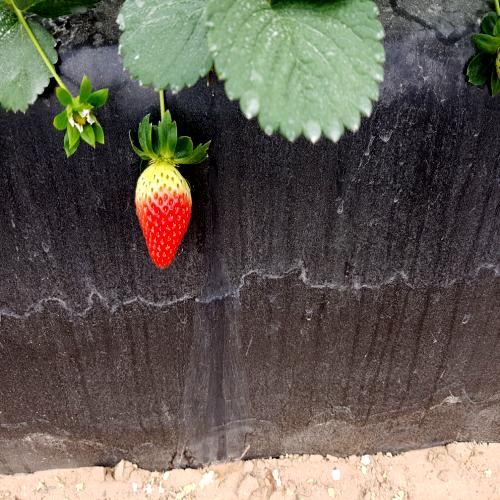partially-ripe: (130, 159, 197, 274)
